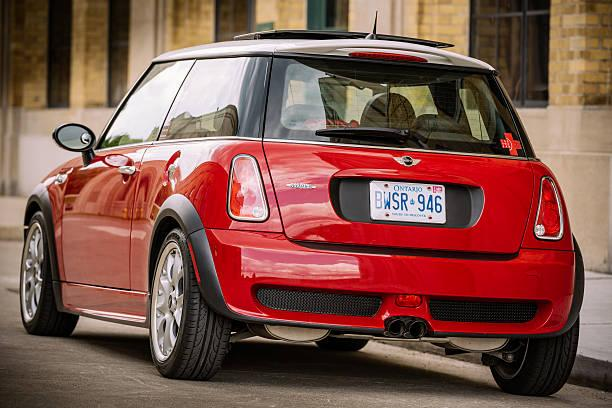mini: (384, 148, 427, 176)
